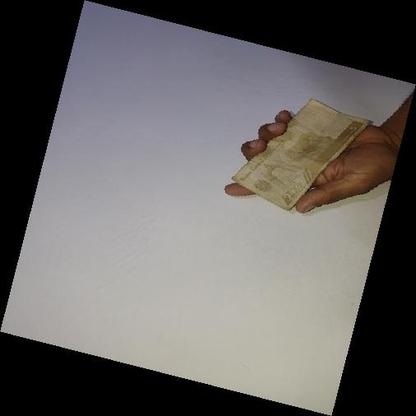five-back-vef: (230, 99, 374, 210)
